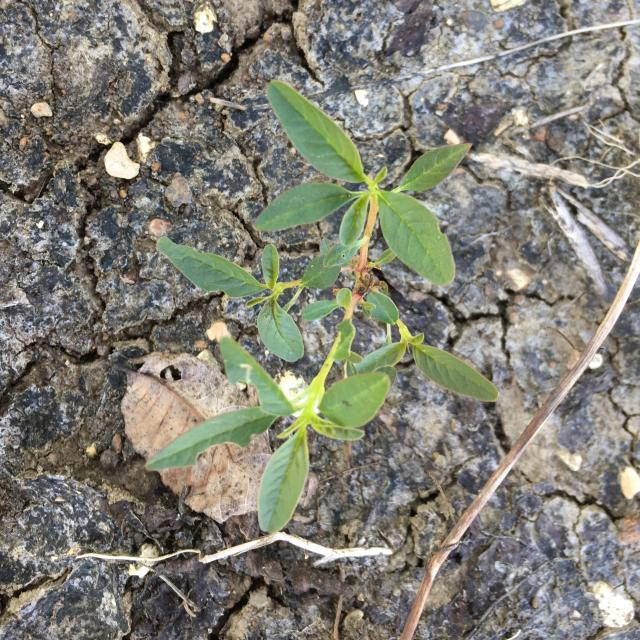Waterhemp: (145, 81, 500, 534)
